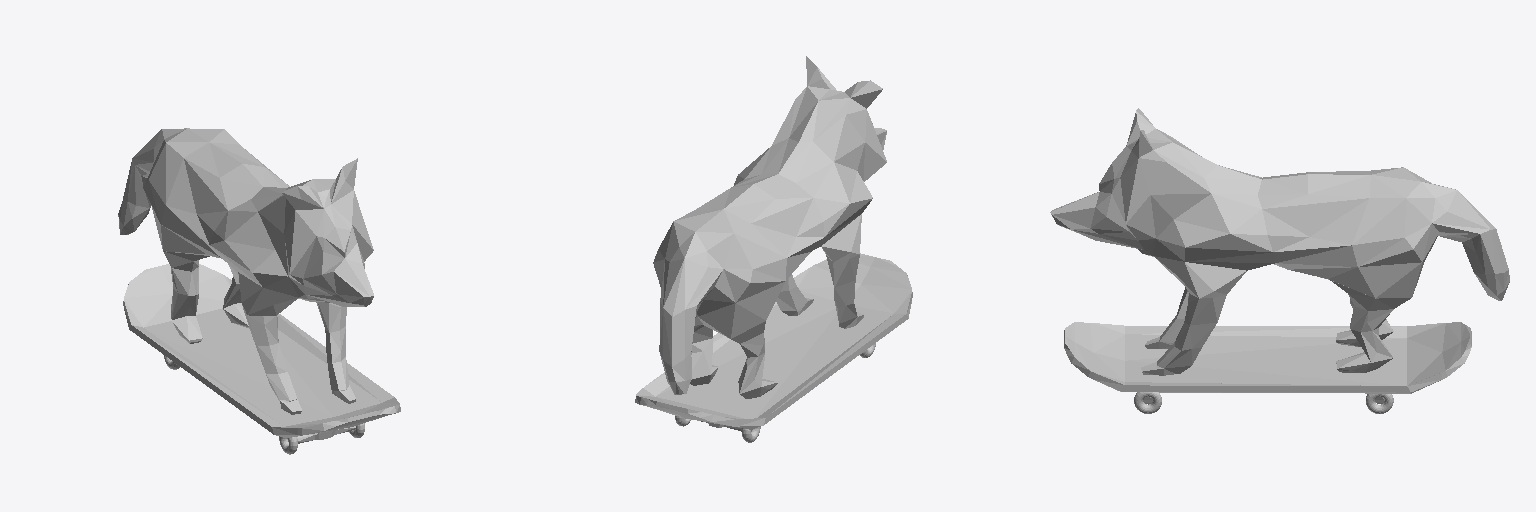
The model's file is Fuchs15.obj.
The picture shows the model from 3 angles: view 1: azimuth 30°, elevation 25°; view 2: azimuth 150°, elevation 25°; view 3: azimuth 270°, elevation 25°; orthographic projection.
Bounding box in the file's own units: 3.58 × 7.88 × 11.63.